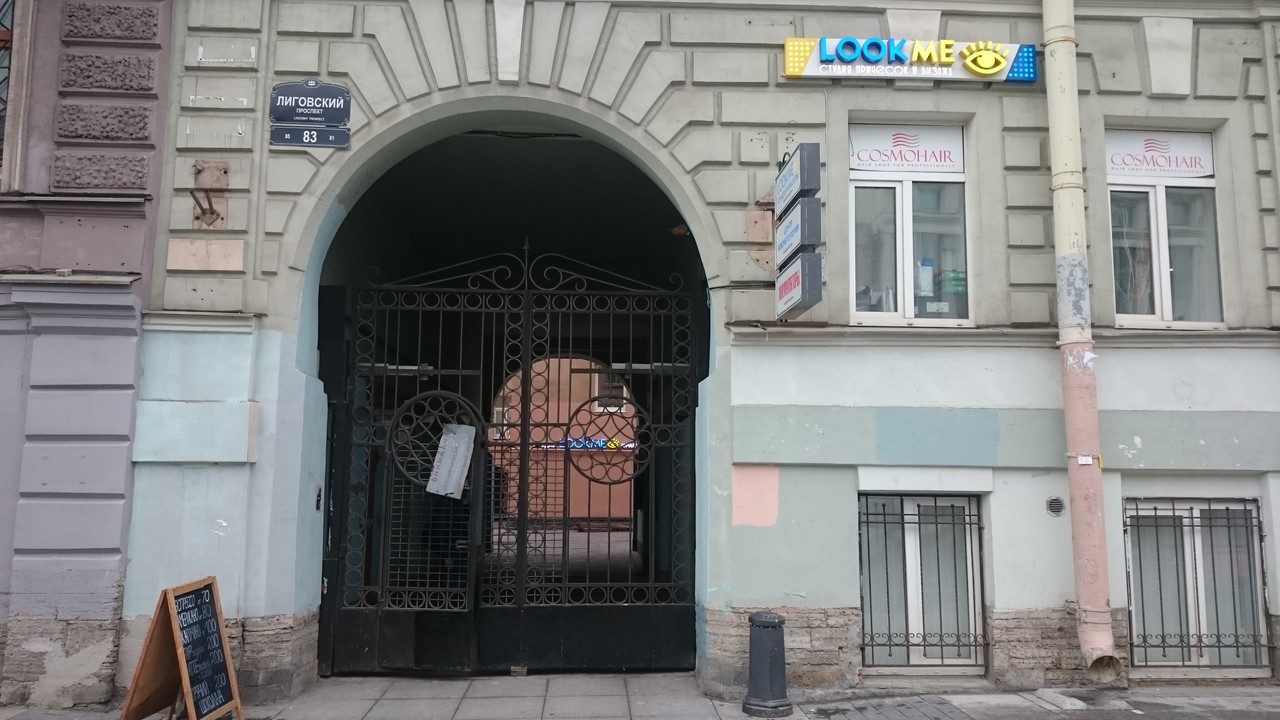arch: (289, 104, 701, 686)
cantilever: (753, 143, 830, 326)
signboard: (778, 35, 1041, 83)
window: (1124, 499, 1267, 677), (1106, 123, 1227, 330), (848, 119, 967, 325), (857, 493, 986, 674)
